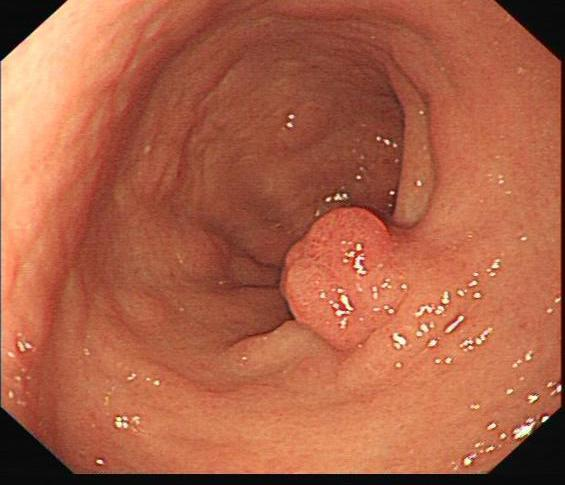Polyp: (278, 203, 413, 350)
